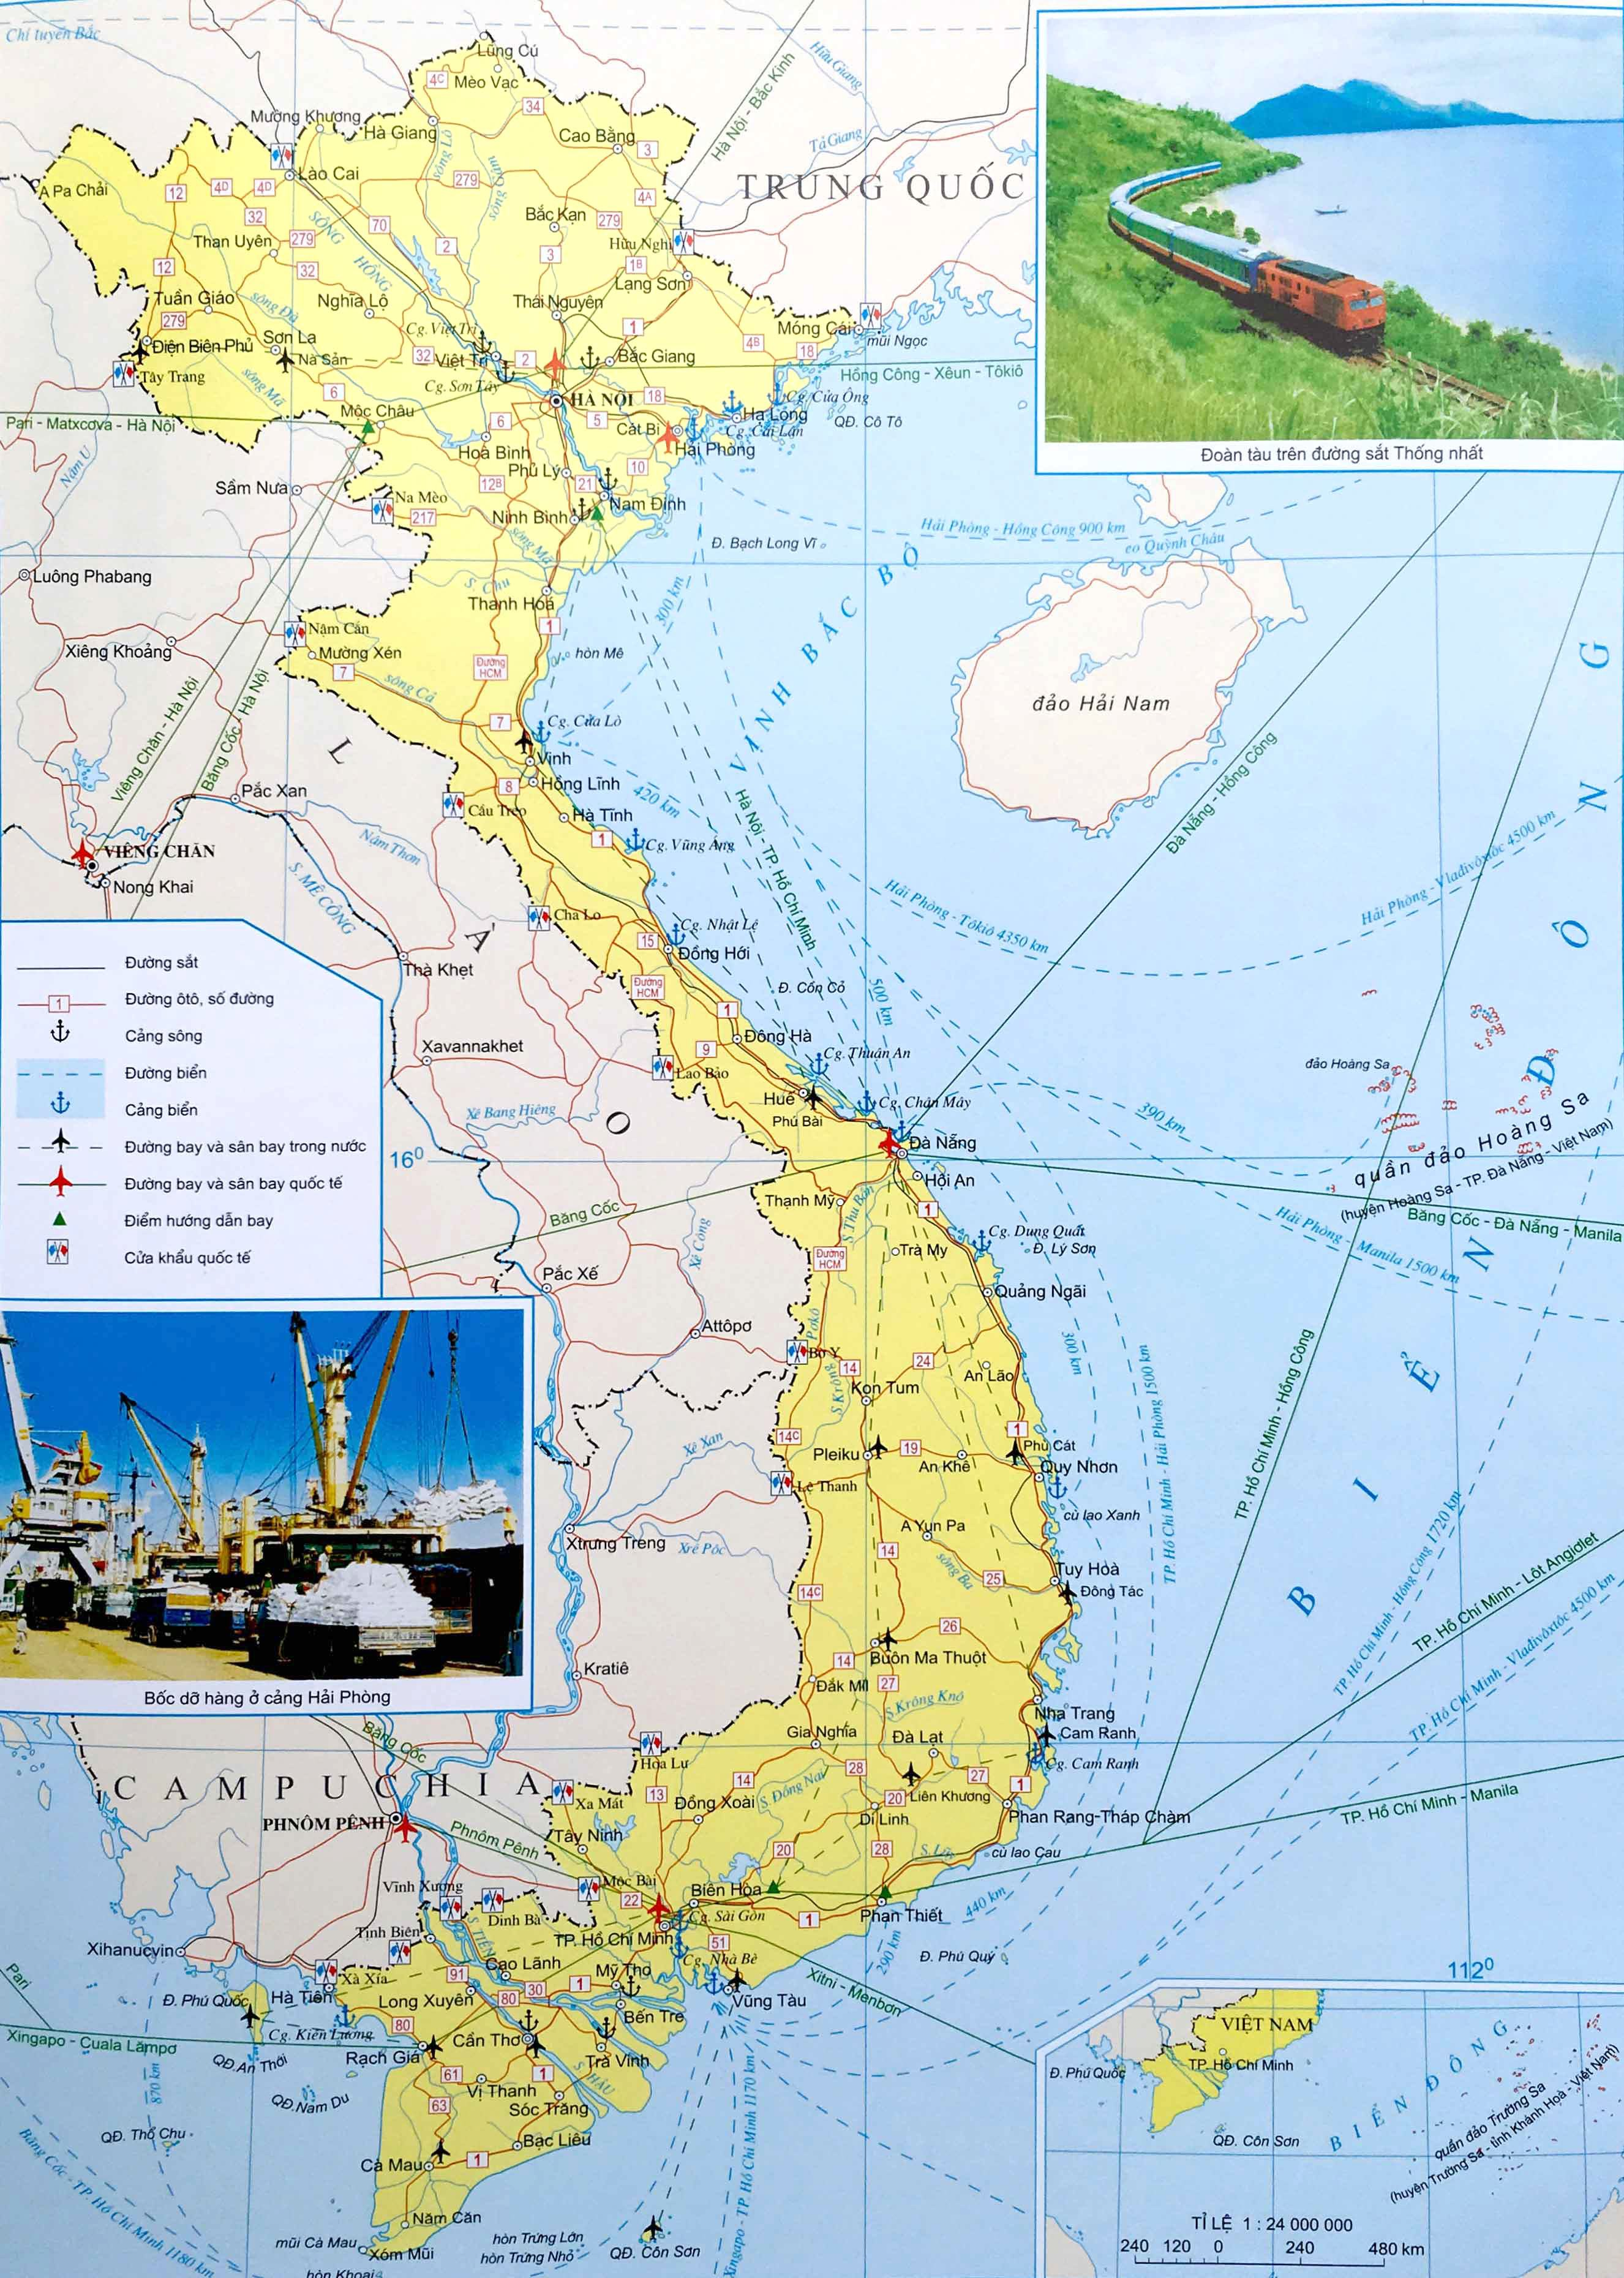Island: (1308, 988, 1624, 1246), (1376, 2007, 1624, 2187)
